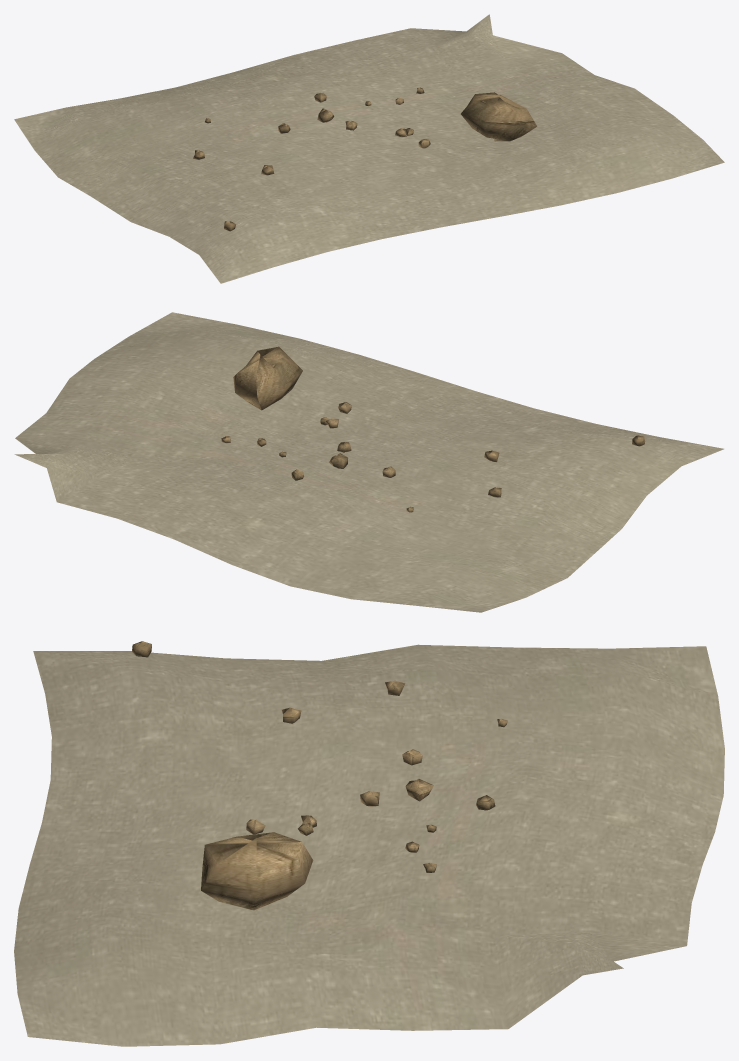
File: kit_lw_bread_cloth_p.glb
3 views of the same model, one above another, from view 1: azimuth 30°, elevation 25°; view 2: azimuth 150°, elevation 25°; view 3: azimuth 270°, elevation 25° (orthographic). The views are drawn at different scales.
Visible parts, largest first — view 1: kit_lw_bread_cloth_p; view 2: kit_lw_bread_cloth_p; view 3: kit_lw_bread_cloth_p.
Boxes of the visible parts, x1,y1,x2,y2 form: kit_lw_bread_cloth_p: (14,14,724,283); kit_lw_bread_cloth_p: (14,312,723,612); kit_lw_bread_cloth_p: (14,641,724,1046).
Bounding box in the file's own units: 0.9874 × 0.106 × 0.7394.
1 material, 1 textured.
